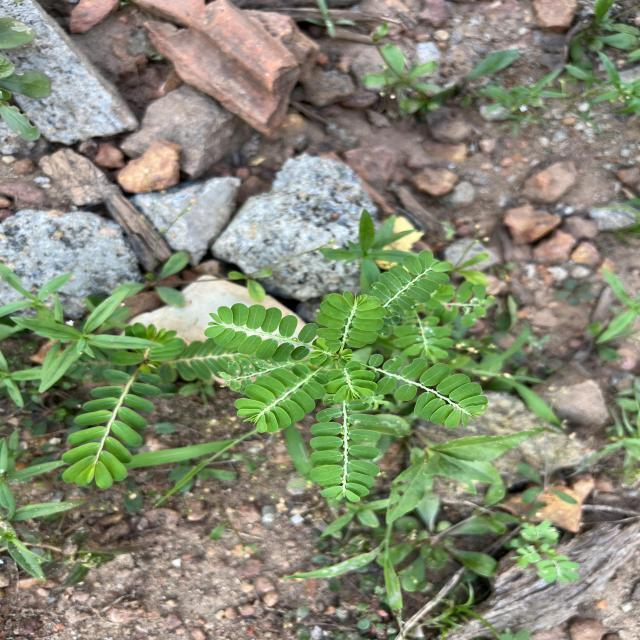Phyllanthus niruri: (61, 370, 162, 490), (366, 351, 491, 432), (308, 398, 382, 505), (200, 300, 320, 363), (232, 366, 326, 434), (372, 247, 454, 320), (314, 288, 388, 350)
